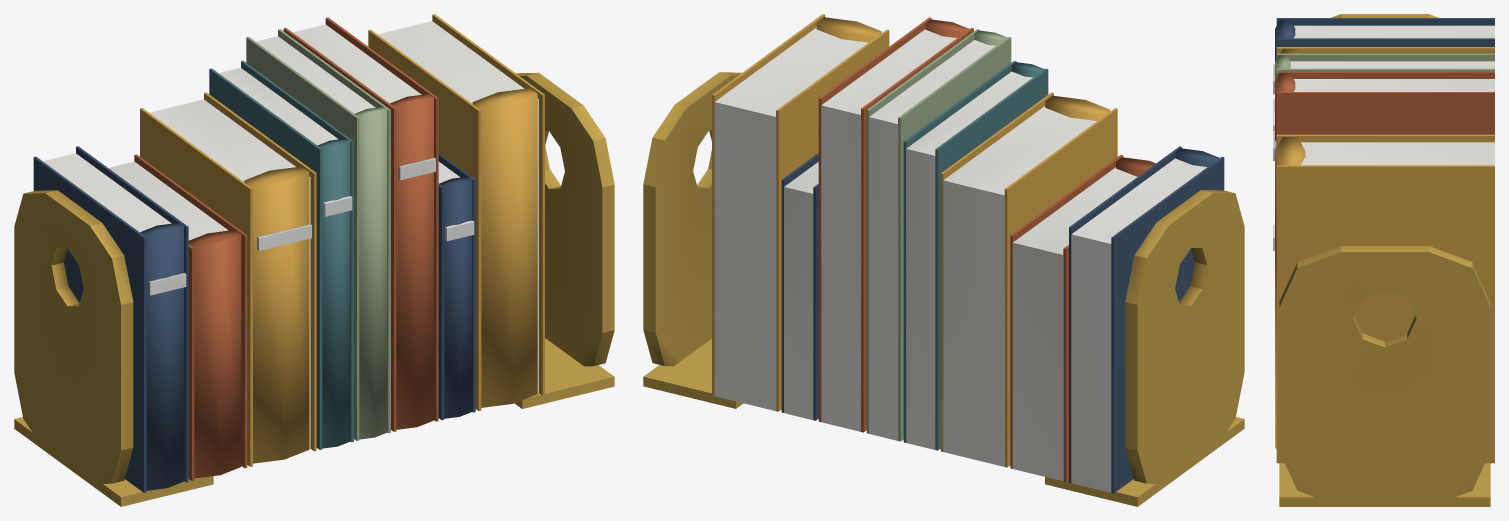
Rendered from booksUpright.glb.
The picture shows the model from 3 angles, left to right: view 1: azimuth 30°, elevation 25°; view 2: azimuth 150°, elevation 25°; view 3: azimuth 270°, elevation 25°; orthographic projection.
Visible parts, largest first — view 1: booksUpright; view 2: booksUpright; view 3: booksUpright.
Boxes of the visible parts, x1=… form: booksUpright: x1=14, y1=14, x2=614, y2=506; booksUpright: x1=643, y1=14, x2=1244, y2=506; booksUpright: x1=1273, y1=14, x2=1494, y2=506.
Bounding box in the file's own units: 0.32 × 0.206 × 0.1261.
